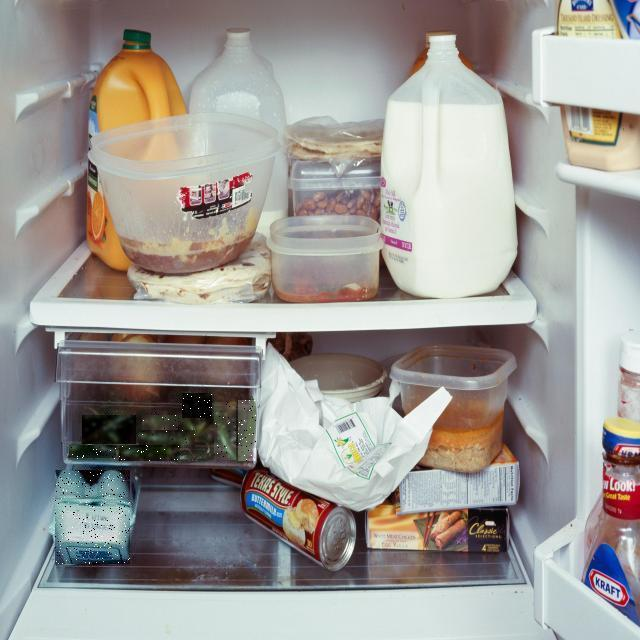Chillies: (82, 415, 136, 444), (214, 402, 236, 460), (238, 400, 256, 461), (139, 431, 195, 449), (119, 445, 180, 461), (182, 394, 212, 420), (70, 446, 118, 460), (142, 415, 178, 430)
Eggs: (55, 470, 130, 564)
